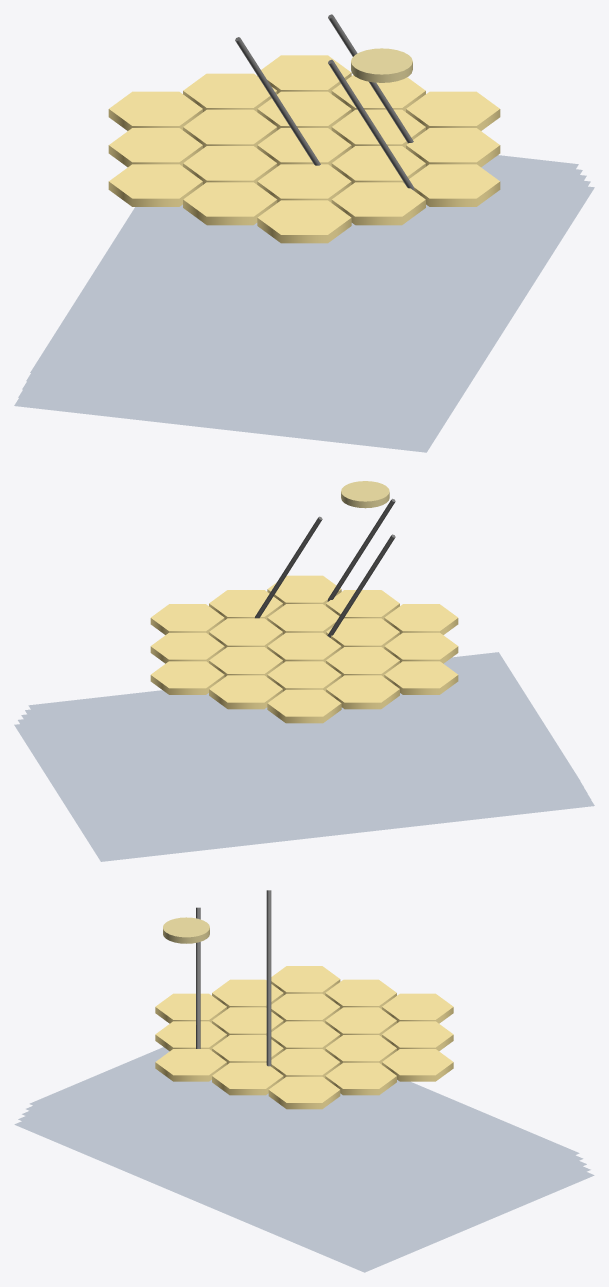
File: jwst.glb
The picture shows the model from 3 angles, top to bottom: view 1: azimuth 30°, elevation 25°; view 2: azimuth 150°, elevation 25°; view 3: azimuth 270°, elevation 25°; orthographic projection. The views are drawn at different scales.
Visible parts, largest first — view 1: jwst; view 2: jwst; view 3: jwst.
Boxes of the visible parts, x1,y1,x2,y2 form: jwst: [14, 14, 594, 452]; jwst: [14, 481, 594, 861]; jwst: [14, 890, 594, 1272].
Size of the model in its own units: 4.92 by 2.42 by 4.92.
